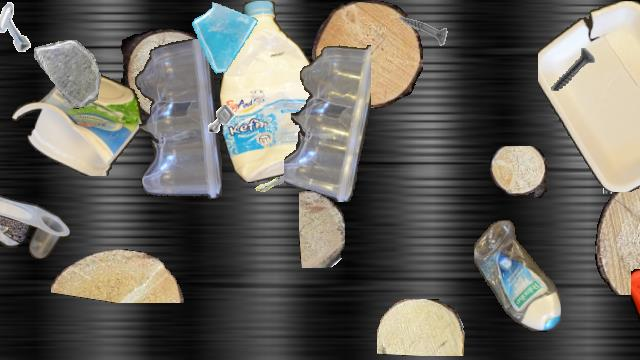glass: (188, 1, 262, 75), (34, 40, 102, 108)
metal: (541, 39, 603, 101), (238, 152, 296, 210), (390, 1, 448, 59), (0, 1, 42, 53), (595, 147, 640, 193), (200, 98, 242, 140)
plastic: (538, 1, 640, 191), (220, 1, 322, 183), (132, 39, 222, 203), (12, 70, 142, 176), (284, 41, 370, 201), (474, 220, 560, 332), (0, 191, 69, 259), (631, 265, 640, 359)
wood: (312, 1, 422, 109), (118, 29, 214, 119), (51, 249, 187, 303), (595, 163, 640, 295), (377, 299, 465, 355), (578, 93, 640, 169), (299, 190, 345, 268), (490, 146, 546, 198)
